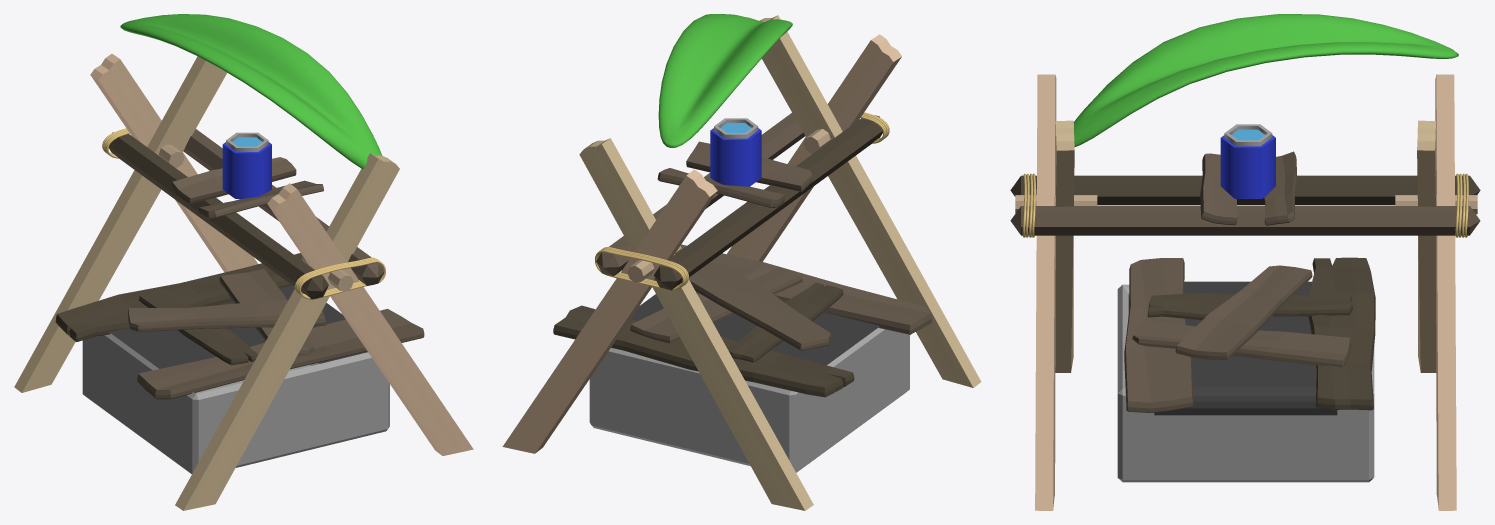
File: purifier.fbx
3 views of the same model, side by side, from view 1: azimuth 30°, elevation 25°; view 2: azimuth 150°, elevation 25°; view 3: azimuth 270°, elevation 25° (orthographic). The views are drawn at different scales.
Visible parts, largest first — view 1: Cube.013, Cube, Cube.014, Plane, Cube.003, Cylinder.002, Cube.004, Cube.008, Plane.001, Cylinder, Cube.007, Cylinder.001 (+3 smaller); view 2: Cube.013, Cube, Cube.014, Plane, Cylinder.002, Cube.004, Cube.008, Cube.003, Plane.001, Cylinder, Cube.006, Cube.007 (+3 smaller); view 3: Cube, Cube.014, Plane, Cylinder.001, Plane.001, Cube.013, Cylinder.002, Cube.004, Cube.003, Cube.008, Cube.006, Cylinder (+3 smaller).
Boxes of the visible parts, box(x1,y1,x2,y2) form: Cube.013: box(14, 56, 399, 510); Cube: box(82, 334, 389, 474); Cube.014: box(90, 53, 473, 455); Plane: box(120, 14, 382, 168); Cube.003: box(137, 308, 424, 399); Cylinder.002: box(108, 132, 328, 299); Cube.004: box(55, 253, 302, 341); Cube.008: box(128, 300, 326, 331); Plane.001: box(109, 285, 345, 368); Cylinder: box(222, 132, 271, 198); Cube.007: box(139, 289, 258, 365); Cylinder.001: box(183, 129, 384, 285); Cube.013: box(579, 15, 981, 510); Cube: box(589, 327, 909, 472); Cube.014: box(502, 34, 901, 453); Plane: box(658, 14, 792, 147); Cylinder.002: box(654, 115, 882, 290); Cube.004: box(553, 305, 854, 397); Cube.008: box(689, 264, 831, 350); Cube.003: box(680, 244, 931, 334); Plane.001: box(631, 291, 879, 365); Cylinder: box(710, 118, 761, 186); Cube.006: box(630, 266, 802, 343); Cube.007: box(727, 282, 843, 362); Cube: box(1117, 284, 1374, 482); Cube.014: box(1035, 74, 1456, 510); Plane: box(1073, 14, 1458, 146); Cylinder.001: box(1010, 206, 1480, 235); Plane.001: box(1154, 281, 1337, 415); Cube.013: box(1055, 120, 1436, 372); Cylinder.002: box(1010, 175, 1480, 205); Cube.004: box(1308, 257, 1375, 410); Cube.003: box(1124, 258, 1193, 412); Cube.008: box(1175, 265, 1312, 360); Cube.006: box(1132, 319, 1350, 367); Cylinder: box(1220, 124, 1275, 198).
Size of the model in its own units: 539 by 659 by 693.
